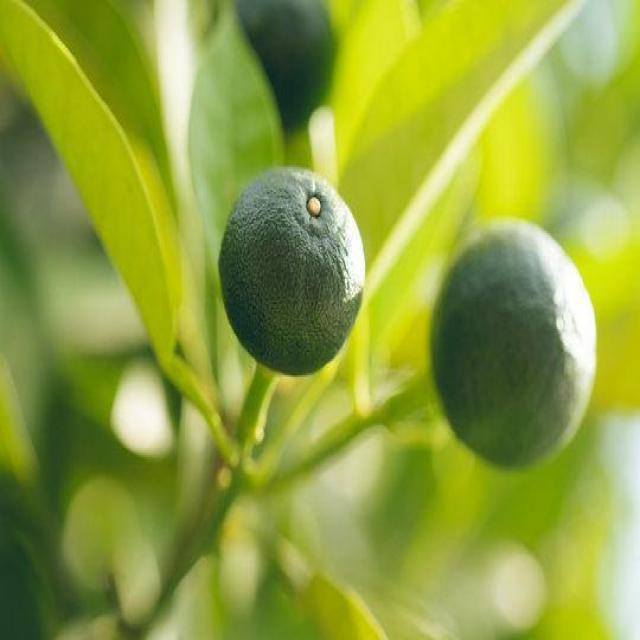Jeruk Belum Matang: (428, 220, 598, 473), (219, 170, 369, 378)
